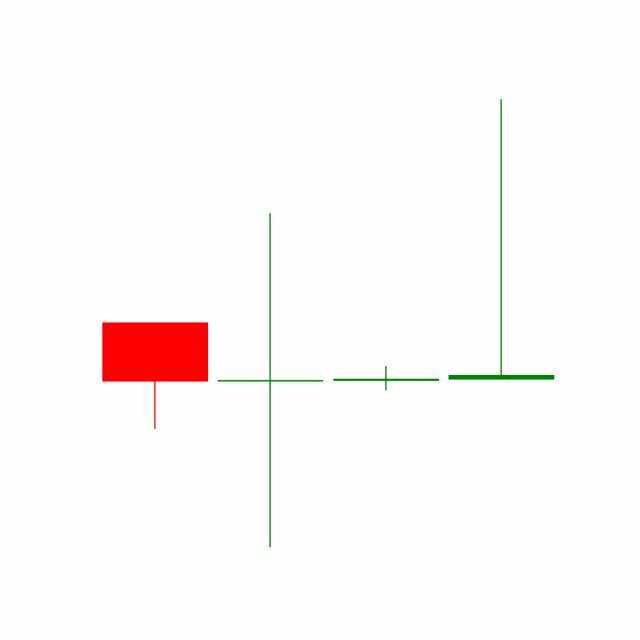Spinning Top: (329, 366, 445, 392)
